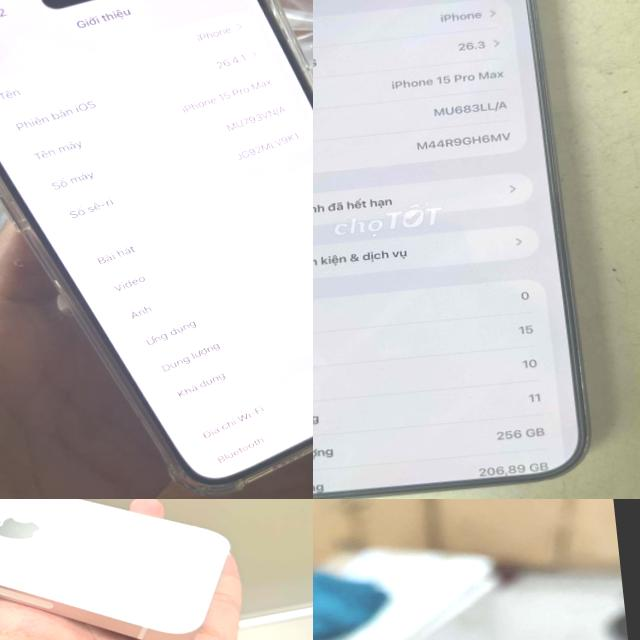gen_12_13: (0, 499, 245, 640)
gen_15: (0, 0, 313, 499), (313, 0, 626, 499)
scratch: (572, 359, 592, 392), (574, 429, 596, 456)
